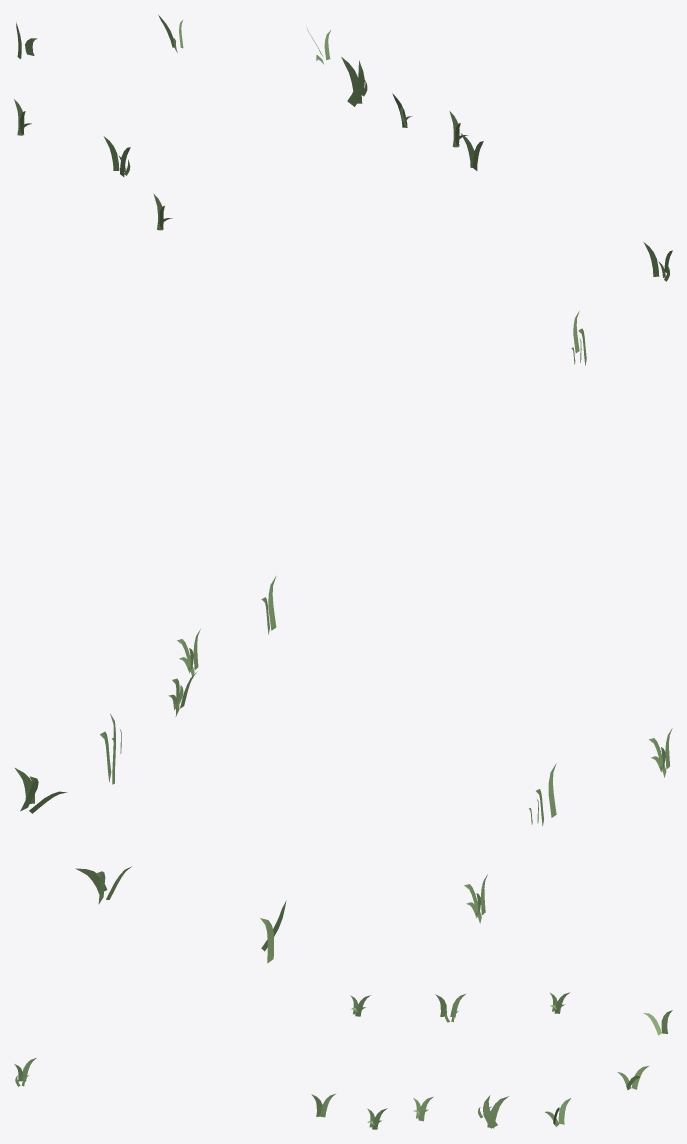
File: Pastitos.fbx
3 renders of one model, top to bottom at view 1: azimuth 30°, elevation 25°; view 2: azimuth 150°, elevation 25°; view 3: azimuth 270°, elevation 25°, orthographic. The views are drawn at different scales.
Visible parts, largest first — view 1: no part large enough to name; view 2: no part large enough to name; view 3: pPlane27.
Boxes of the visible parts, x1,y1,x2,y2 form: pPlane27: (487, 1096, 508, 1128).
Size of the model in its own units: 13.25 by 3.45 by 30.93.
